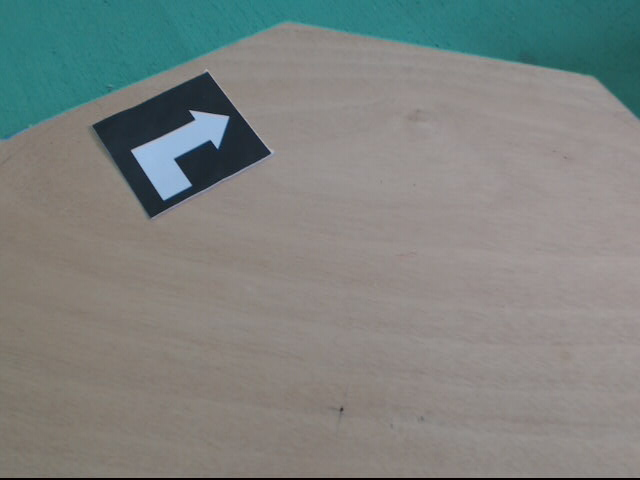right: (89, 69, 274, 218)
